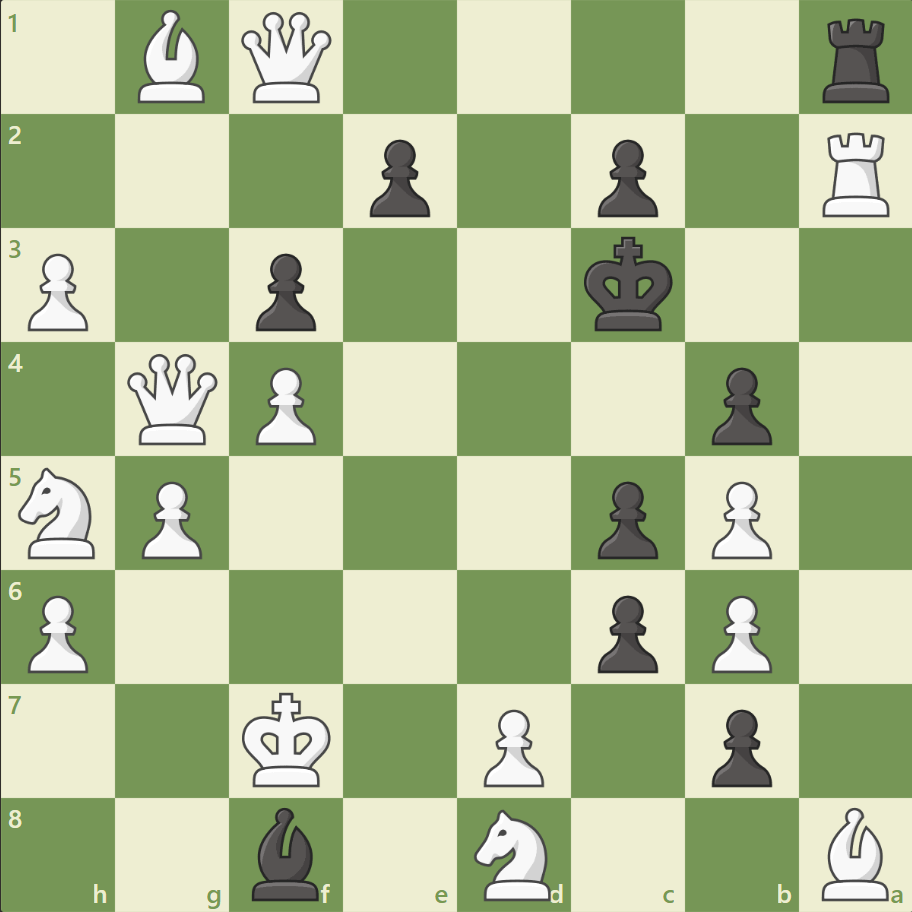B: (812, 801, 896, 904), (131, 6, 215, 109)
K: (238, 685, 338, 793)
N: (11, 461, 108, 564), (465, 802, 562, 904)
P: (474, 700, 549, 791), (701, 586, 776, 677), (20, 586, 95, 677), (701, 473, 776, 564), (133, 473, 208, 564), (247, 359, 322, 450), (20, 246, 95, 337)
Q: (124, 349, 223, 449), (237, 9, 336, 108)
R: (814, 125, 897, 222)
b: (244, 801, 328, 904)
k: (579, 231, 679, 339)
p: (701, 700, 776, 791), (701, 359, 776, 450), (247, 246, 322, 337), (588, 586, 662, 677), (588, 473, 662, 564), (588, 132, 662, 223), (361, 132, 435, 223)
r: (814, 12, 897, 109)
